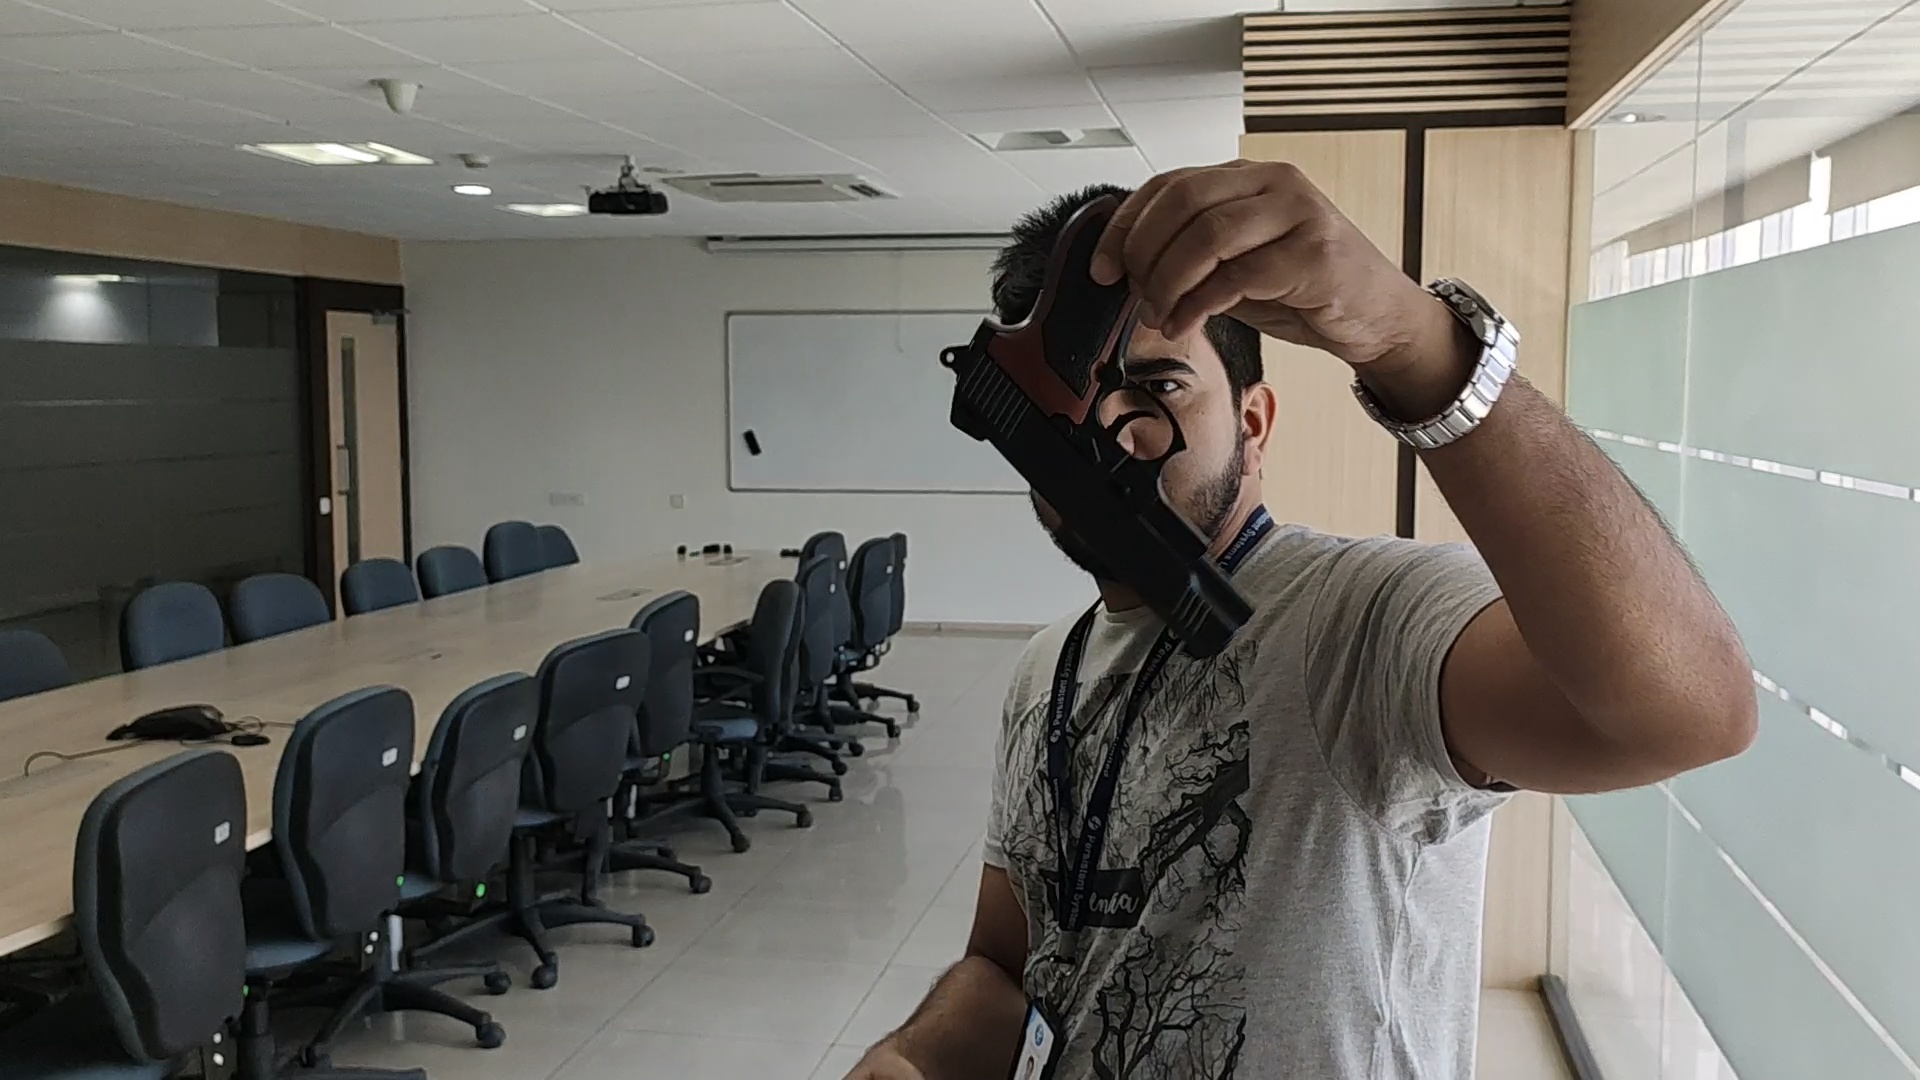gun: (940, 343, 1258, 659)
